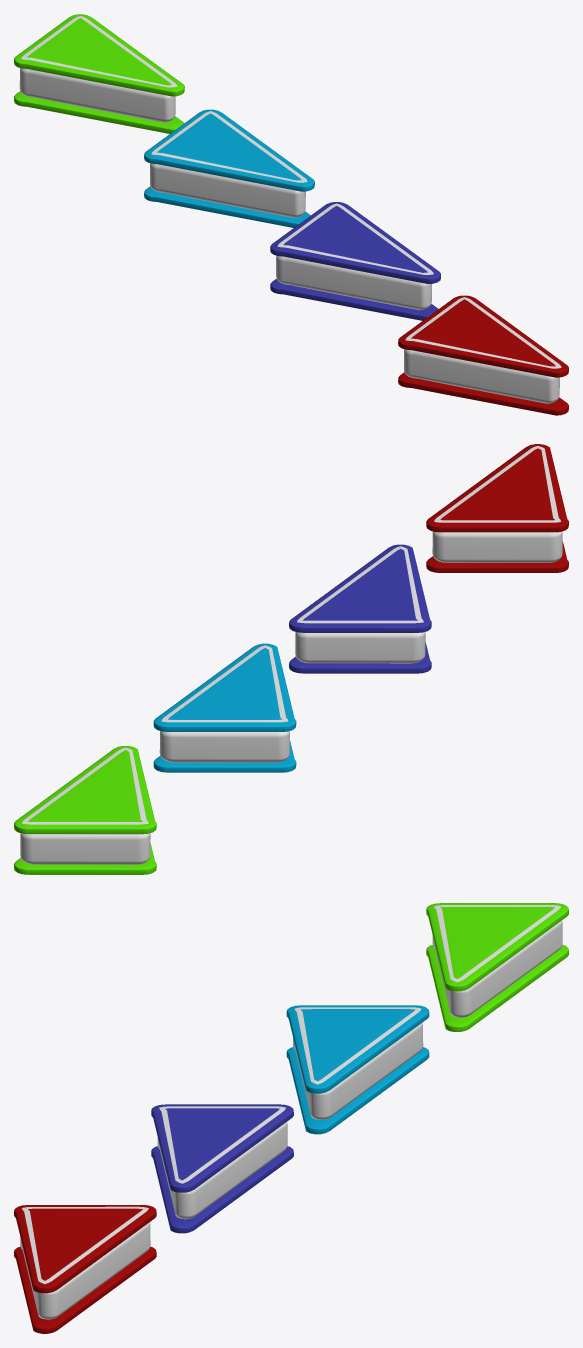
The model's file is PinballSets2.fbx.
3 renders of one model, top to bottom at view 1: azimuth 30°, elevation 25°; view 2: azimuth 150°, elevation 25°; view 3: azimuth 330°, elevation 25°, orthographic. The views are drawn at different scales.
Parts seen in each view (by area): view 1: slidertop4, slidertop, slidertop3, slidertop1, slider4, slider, slider1, slider2, sliderbot, sliderbot4, sliderbot1, sliderbot3; view 2: slidertop4, slidertop, slidertop1, slidertop3, slider, slider1, slider4, slider2, sliderbot1, sliderbot3, sliderbot4, sliderbot; view 3: slidertop1, slidertop3, slidertop4, slidertop, slider4, slider1, slider, slider2, sliderbot3, sliderbot1, sliderbot, sliderbot4.
Part boxes in pixels (box(x1,y1,x2,y2)): slidertop4: box(14, 14, 184, 96); slidertop: box(398, 295, 568, 377); slidertop3: box(144, 109, 314, 191); slidertop1: box(270, 202, 440, 283); slider4: box(19, 68, 175, 122); slider: box(404, 349, 559, 403); slider1: box(276, 255, 431, 310); slider2: box(150, 163, 305, 217); sliderbot: box(398, 372, 568, 415); sliderbot4: box(14, 91, 184, 133); sliderbot1: box(270, 279, 438, 320); sliderbot3: box(144, 186, 310, 227); slidertop4: box(14, 746, 156, 834); slidertop: box(426, 444, 568, 532); slidertop1: box(289, 544, 431, 632); slidertop3: box(153, 643, 296, 731); slider: box(432, 531, 562, 562); slider1: box(295, 632, 425, 663); slider4: box(20, 833, 150, 864); slider2: box(159, 731, 289, 762); sliderbot1: box(289, 643, 431, 673); sliderbot3: box(153, 741, 296, 772); sliderbot4: box(14, 843, 156, 874); sliderbot: box(426, 541, 568, 572); slidertop1: box(151, 1104, 293, 1192); slidertop3: box(286, 1005, 429, 1093); slidertop4: box(426, 903, 568, 991); slidertop: box(14, 1205, 156, 1293); slider4: box(432, 920, 562, 1017); slider1: box(157, 1122, 287, 1219); slider: box(20, 1222, 150, 1319); slider2: box(293, 1023, 423, 1119); sliderbot3: box(286, 1047, 429, 1134); sliderbot1: box(151, 1146, 293, 1233); sliderbot: box(14, 1246, 156, 1333); sliderbot4: box(426, 945, 568, 1031).
Size of the model in its own units: 3.29 by 1.4 by 27.09.
